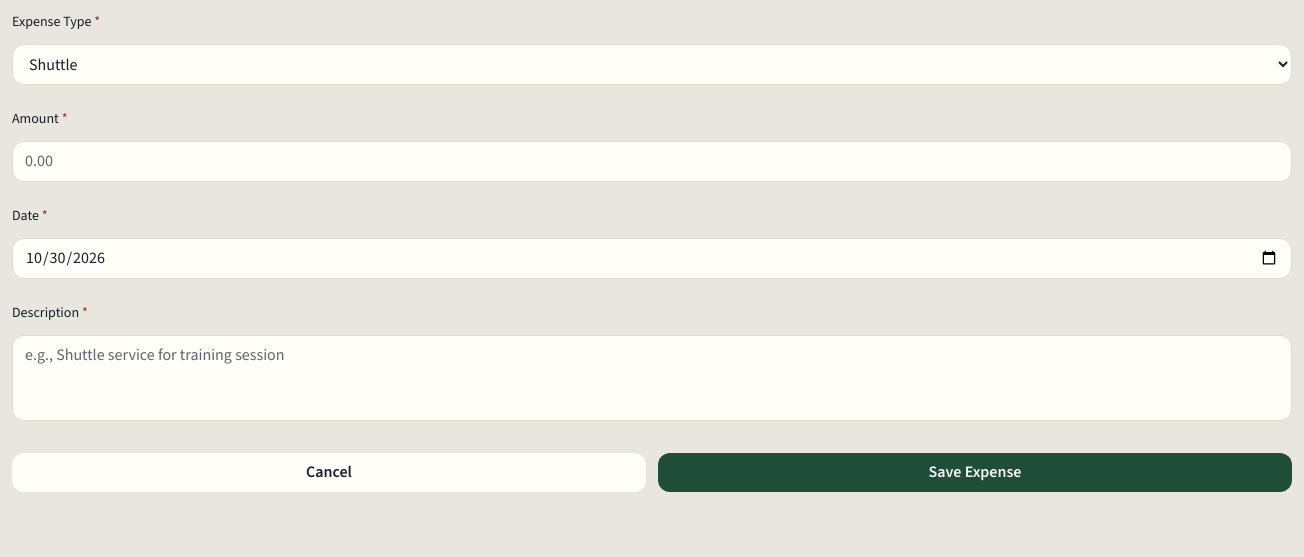
it: AddExpenseForm › Form Validation › shows error for amount <= 0
Click the button "Save Expense" at (975, 473), box [658,453,1292,492]
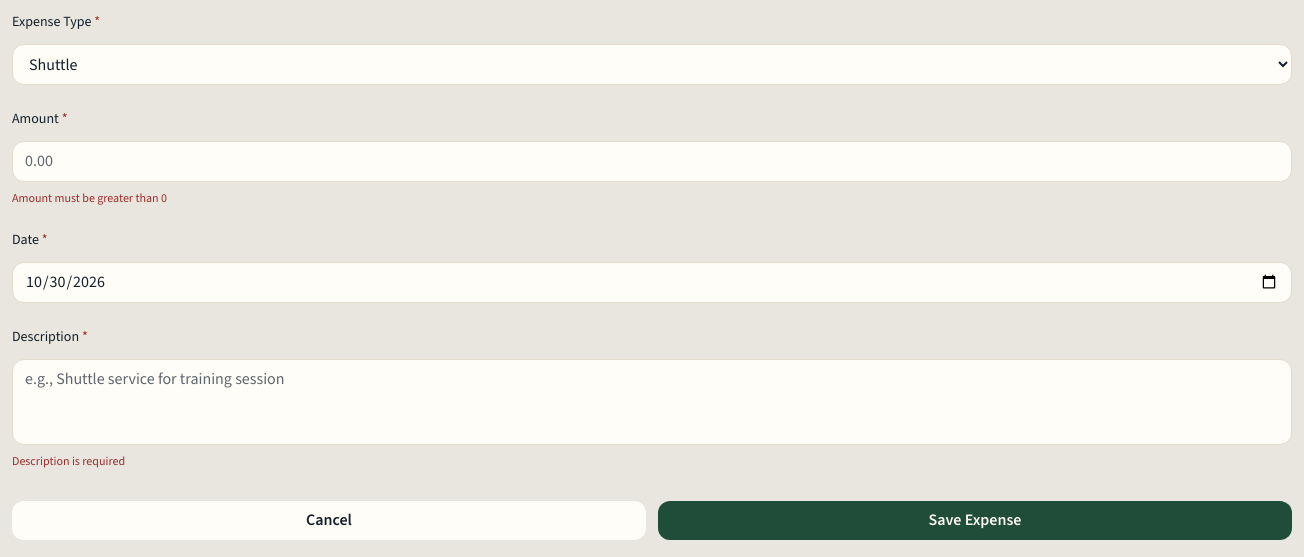
Check: the text "Amount must be greater than 0" is shown, box [12,190,167,206]
